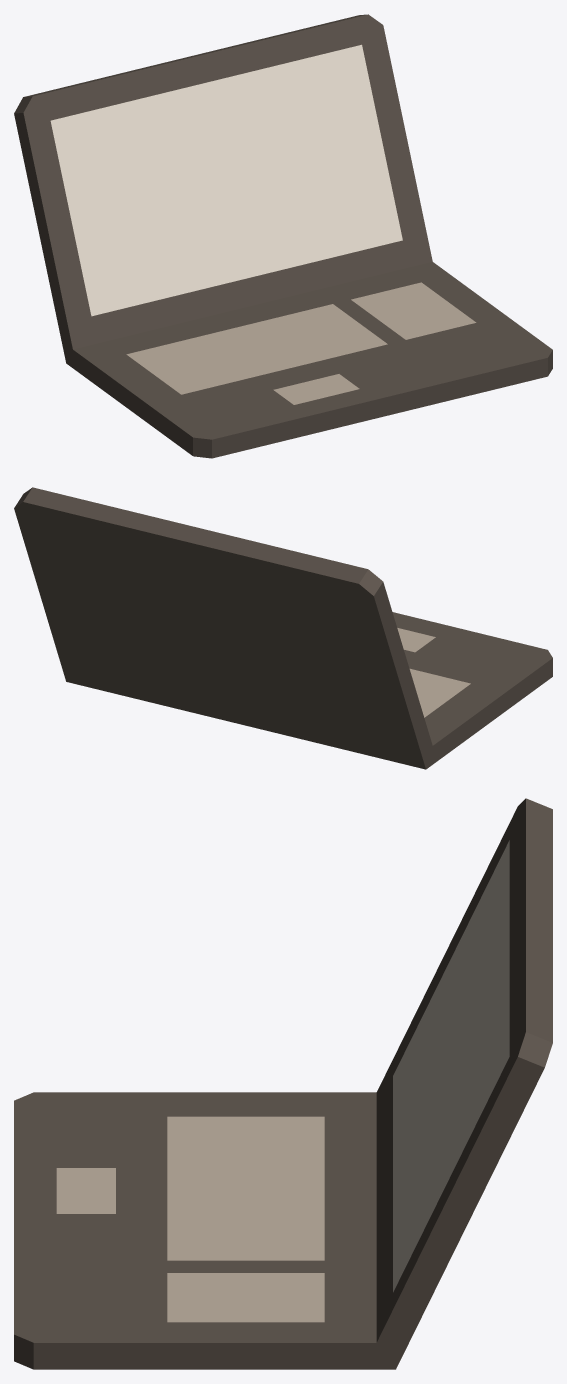
Rendered from kitLaptop.glb.
3 views of the same model, one above another, from view 1: azimuth 30°, elevation 25°; view 2: azimuth 150°, elevation 25°; view 3: azimuth 270°, elevation 25° (orthographic). The views are drawn at different scales.
Parts seen in each view (by area): view 1: kitLaptop_metalDark, kitLaptop_metal, kitLaptop_metalMedium; view 2: kitLaptop_metalDark, kitLaptop_metalMedium; view 3: kitLaptop_metalDark, kitLaptop_metalMedium, kitLaptop_metal.
Boxes of the visible parts, x1,y1,x2,y2 form: kitLaptop_metalDark: (14,14,552,458); kitLaptop_metal: (50,44,402,316); kitLaptop_metalMedium: (126,282,476,404); kitLaptop_metalDark: (14,487,552,769); kitLaptop_metalMedium: (397,628,470,717); kitLaptop_metalDark: (14,798,552,1369); kitLaptop_metalMedium: (56,1116,324,1322); kitLaptop_metal: (393,840,509,1292).
Size of the model in its own units: 0.34 by 0.2084 by 0.3092.
